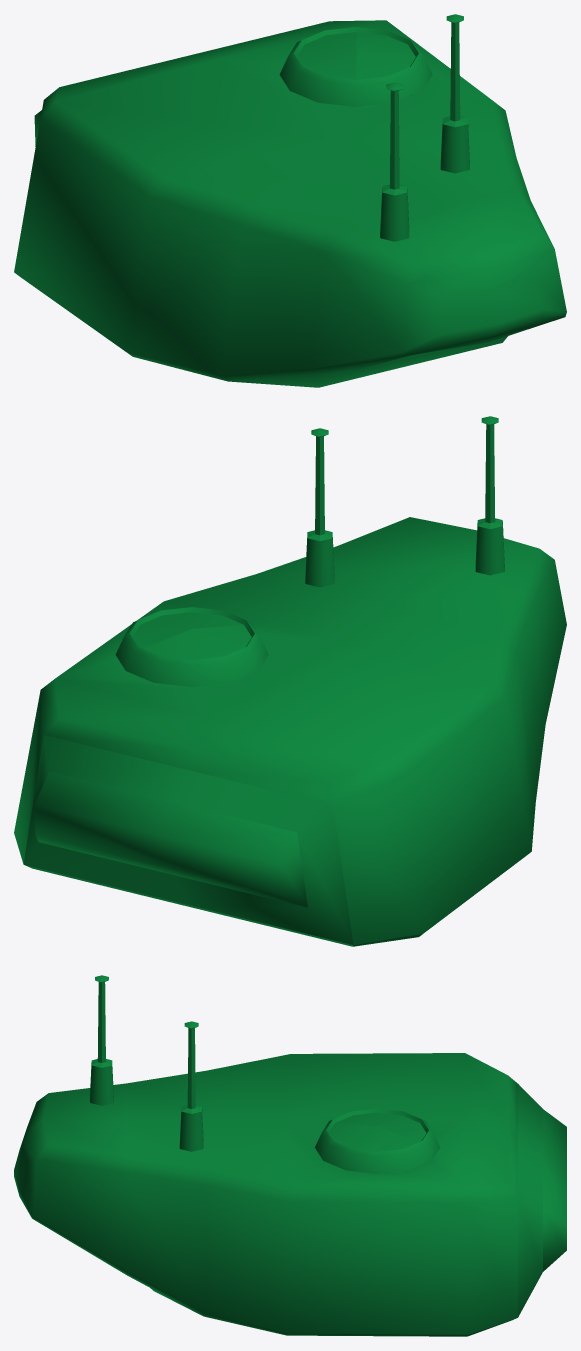
The model's file is sherman_turret_ao.obj.
The picture shows the model from 3 angles, top to bottom: view 1: azimuth 30°, elevation 25°; view 2: azimuth 150°, elevation 25°; view 3: azimuth 270°, elevation 25°; orthographic projection. The views are drawn at different scales.
Parts seen in each view (by area): view 1: turret; view 2: turret; view 3: turret.
Part boxes in pixels (left/top/right/bottom): turret: left=14, top=14, right=566, bottom=387; turret: left=14, top=416, right=566, bottom=946; turret: left=14, top=975, right=566, bottom=1336.
Bounding box in the file's own units: 2.09 × 1.56 × 2.99.
